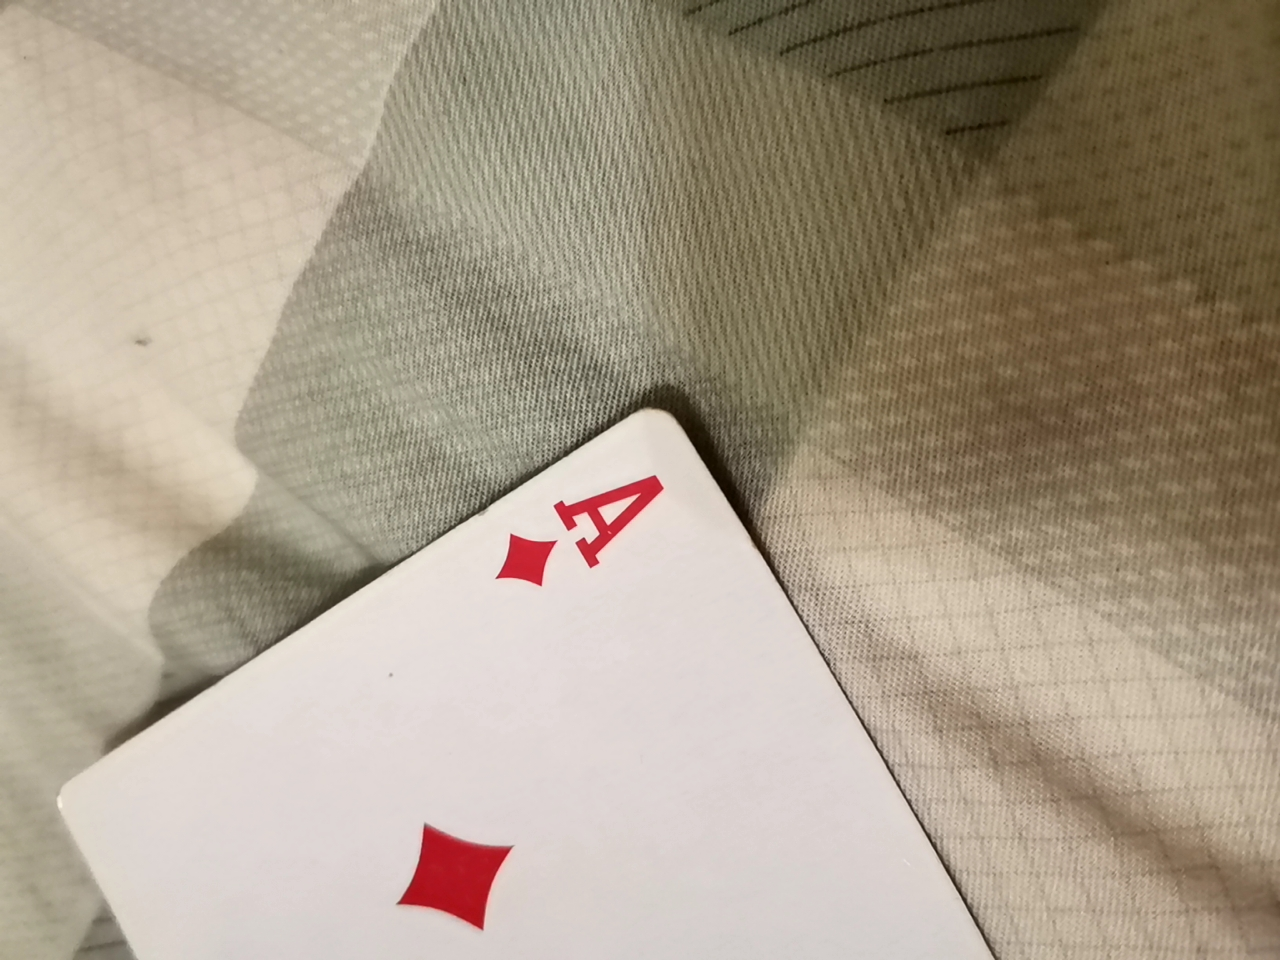fk a: (57, 421, 1054, 955)
